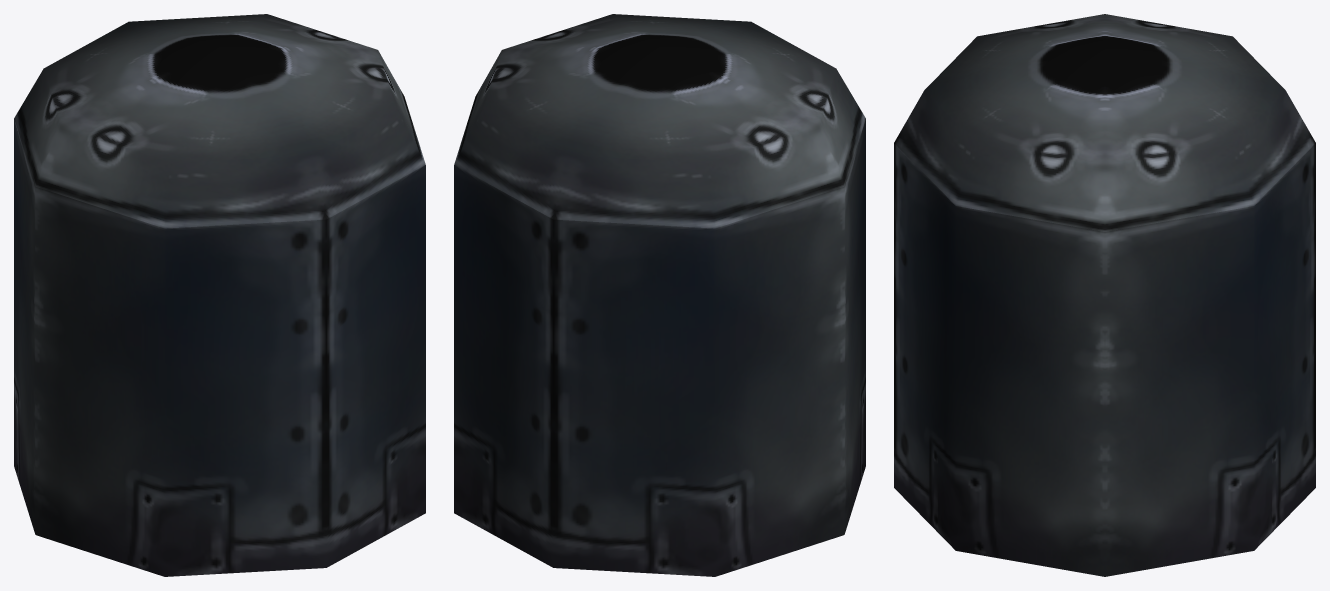
The model's file is Airship_BigMachine.fbx.
3 renders of one model, left to right at view 1: azimuth 30°, elevation 25°; view 2: azimuth 150°, elevation 25°; view 3: azimuth 270°, elevation 25°, orthographic.
Visible parts, largest first — view 1: Airship_BigMachine; view 2: Airship_BigMachine; view 3: Airship_BigMachine.
Boxes of the visible parts, <box> form: Airship_BigMachine: <box>14,14,425,576</box>; Airship_BigMachine: <box>454,14,865,576</box>; Airship_BigMachine: <box>894,14,1315,576</box>.
Bounding box in the file's own units: 300 × 344 × 300.
